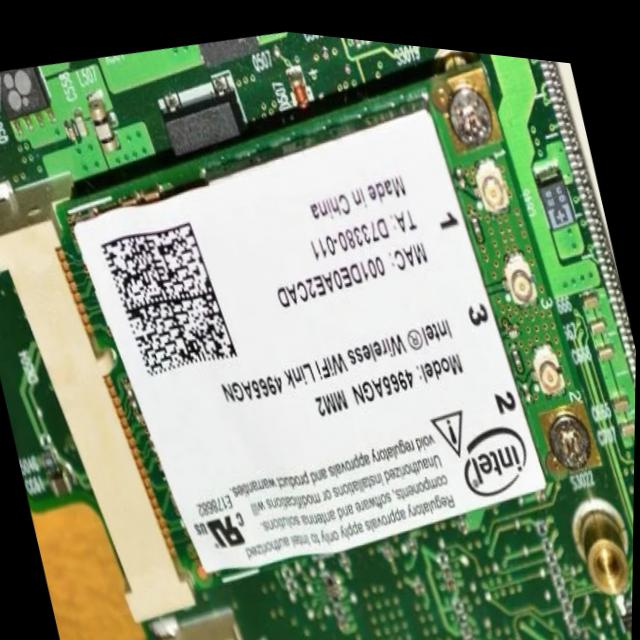datamatrix: (97, 205, 243, 386)
